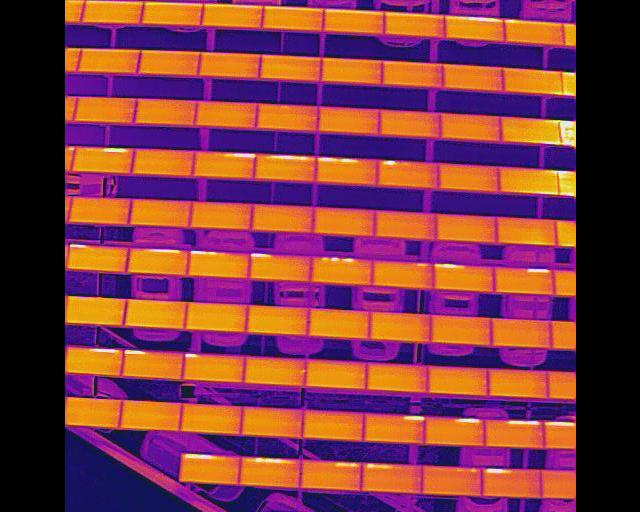Cell: (182, 354, 244, 382)
Cell-Multi: (421, 466, 483, 496), (310, 258, 372, 287)
No-Anomaly: (307, 308, 370, 339), (313, 206, 376, 237), (304, 360, 367, 390), (368, 312, 431, 342), (489, 318, 552, 348), (244, 307, 308, 336), (429, 317, 493, 346), (372, 212, 436, 241), (184, 303, 248, 332), (178, 405, 242, 434), (250, 204, 313, 233), (433, 214, 496, 243), (426, 366, 489, 395), (369, 262, 434, 290), (494, 217, 556, 246), (243, 357, 304, 386), (488, 370, 549, 399), (64, 297, 125, 326), (124, 300, 185, 329), (365, 364, 428, 392), (502, 18, 564, 46), (380, 61, 444, 88), (439, 114, 500, 142), (441, 66, 504, 93), (319, 59, 382, 86), (437, 165, 500, 192), (381, 12, 444, 39), (132, 100, 195, 127), (73, 97, 136, 124), (132, 149, 195, 176), (127, 200, 190, 227), (302, 412, 362, 440), (240, 408, 302, 435), (198, 52, 260, 79), (188, 203, 250, 230), (319, 107, 380, 134), (379, 111, 440, 138), (119, 403, 180, 430), (499, 117, 560, 144), (67, 198, 130, 224), (261, 6, 326, 31), (501, 69, 563, 95), (495, 168, 556, 194), (254, 105, 317, 130), (259, 56, 322, 81), (76, 50, 139, 75), (137, 52, 199, 77), (64, 400, 121, 427), (324, 9, 384, 34), (195, 102, 256, 126), (201, 4, 262, 28), (140, 2, 201, 26), (82, 1, 142, 24)
Unclassified: (299, 460, 362, 492), (362, 414, 423, 445), (480, 469, 543, 499), (191, 152, 256, 181), (374, 161, 441, 189), (484, 419, 545, 449), (431, 264, 494, 293), (248, 254, 310, 283), (424, 417, 485, 446), (361, 465, 422, 494), (122, 351, 183, 380), (316, 157, 378, 185), (239, 459, 301, 487), (186, 250, 248, 278), (181, 454, 240, 483), (127, 247, 188, 275), (442, 16, 505, 43), (72, 147, 132, 175), (254, 155, 316, 182), (492, 268, 554, 295), (67, 244, 126, 272), (64, 348, 122, 376)
